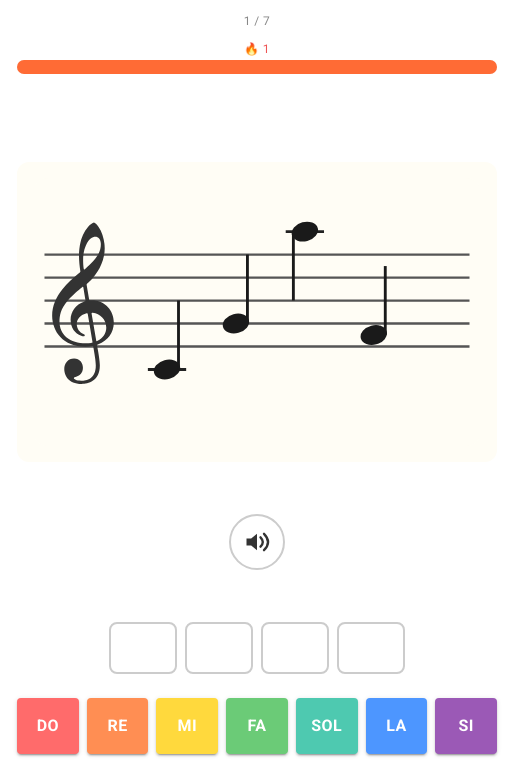
does not pause the timer and cancels playback at timeout
This screenshot has width=515, height=774.
Click the button named "Listen to notes" at {"x": 257, "y": 542}, box [229, 514, 285, 570]
Wait 1000 ms
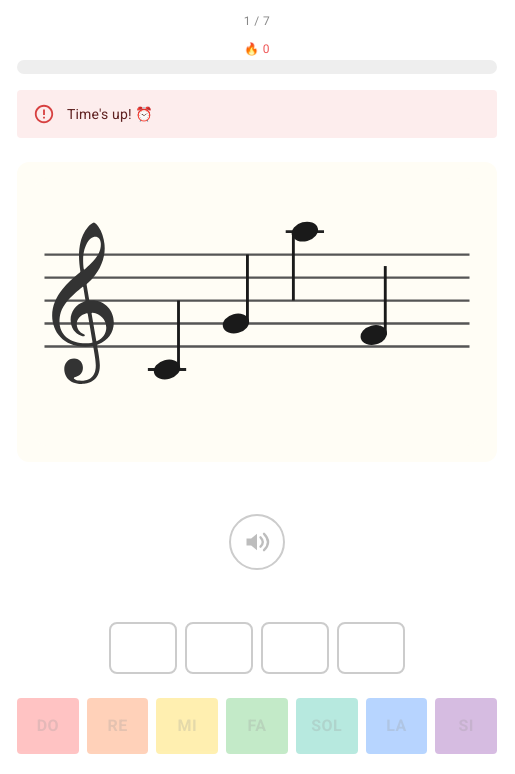
Expected: the button named "Listen to notes" is disabled, [229, 514, 285, 570]
